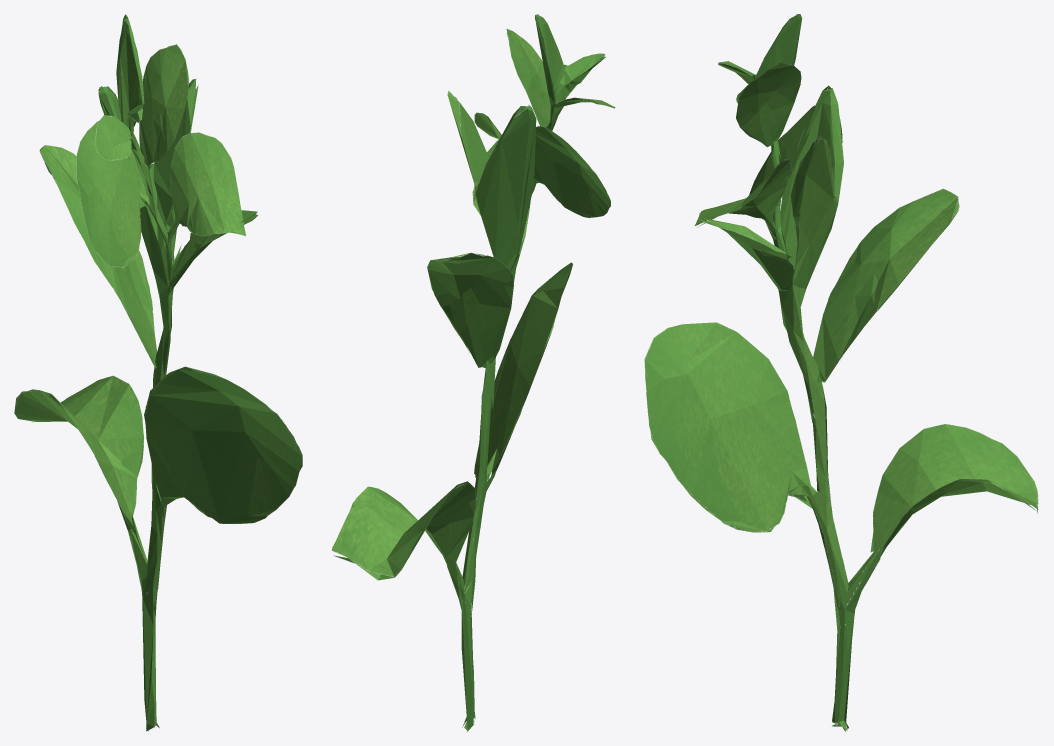
Rendered from Plant_4_Fixed.glb.
3 views of the same model, side by side, from view 1: azimuth 30°, elevation 25°; view 2: azimuth 150°, elevation 25°; view 3: azimuth 270°, elevation 25° (orthographic). The views are drawn at different scales.
Visible parts, largest first — view 1: geometry_0.006; view 2: geometry_0.006; view 3: geometry_0.006.
Boxes of the visible parts, x1,y1,x2,y2 form: geometry_0.006: [14, 14, 302, 731]; geometry_0.006: [331, 14, 615, 731]; geometry_0.006: [644, 14, 1038, 731].
Bounding box in the file's own units: 0.0568 × 0.2488 × 0.1279.
2 materials, 2 textured.
